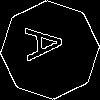A: (25, 25, 73, 62)
